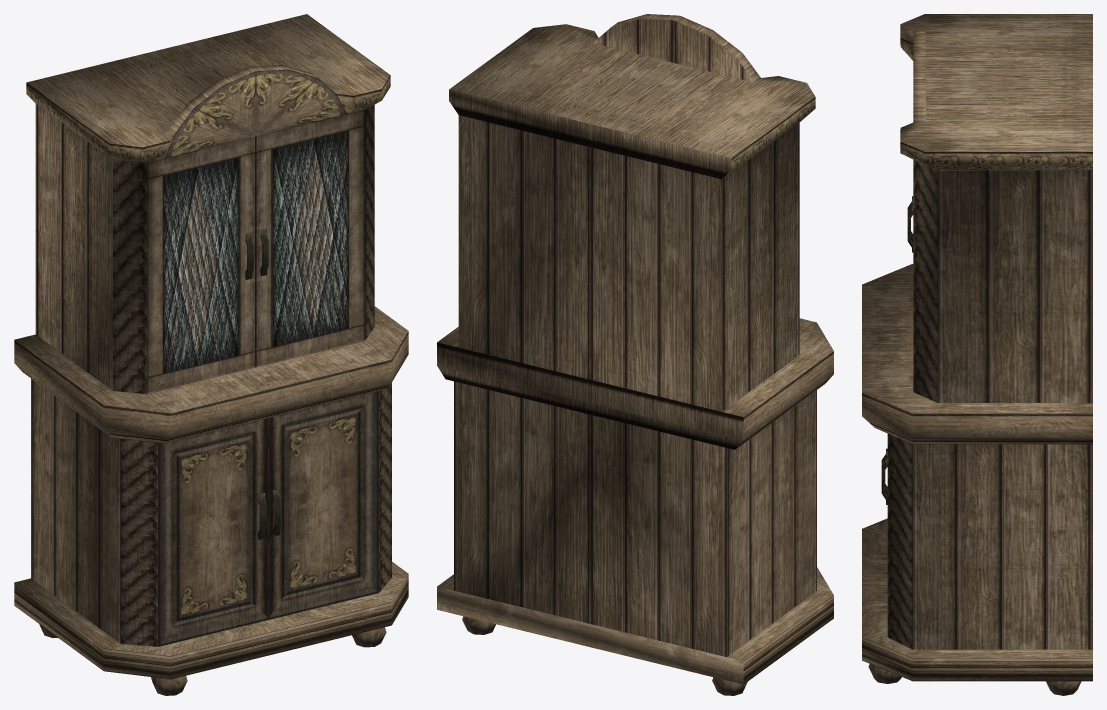
File: GS_CITY_CUPBOARD_YELLOW_03_KOZA.glb
3 views of the same model, side by side, from view 1: azimuth 30°, elevation 25°; view 2: azimuth 150°, elevation 25°; view 3: azimuth 270°, elevation 25° (orthographic).
Visible parts, largest first — view 1: Mesh; view 2: Mesh; view 3: Mesh.
Part boxes in pixels (x1,y1,x2,y2): Mesh: (14, 14, 408, 695); Mesh: (437, 14, 833, 695); Mesh: (862, 14, 1092, 695).
Size of the model in its own units: 1.38 by 2.53 by 0.9.
Materials: 5 (5 with a texture image).
